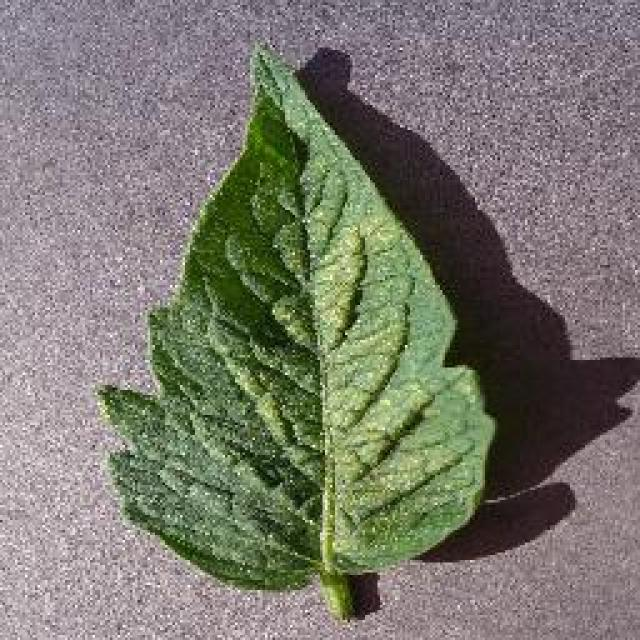Tom_Spider_mites Two-spotted_spider_mite: (231, 191, 425, 550)
